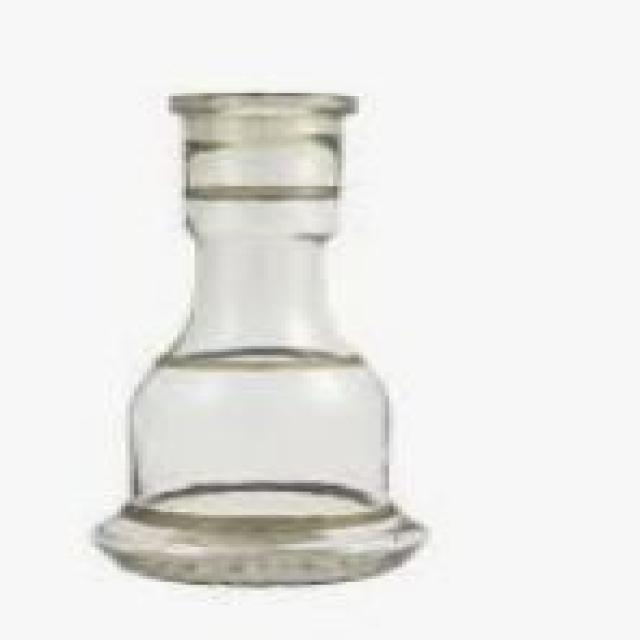electronic: (93, 84, 434, 590)
